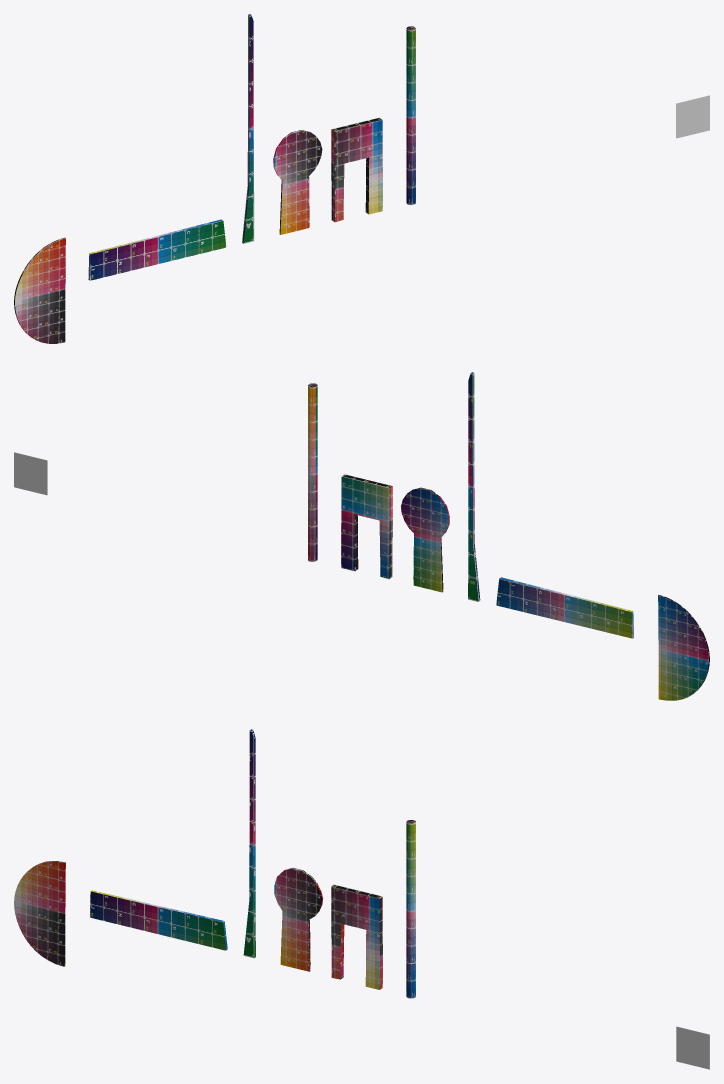
File: plstmichel.glb
The picture shows the model from 3 angles, top to bottom: view 1: azimuth 30°, elevation 25°; view 2: azimuth 150°, elevation 25°; view 3: azimuth 330°, elevation 25°; orthographic projection.
Parts seen in each view (by area): view 1: halfcircle, rechthoek, poortje, sleutelgat, paal, paal2, plane; view 2: halfcircle, rechthoek, poortje, sleutelgat, paal, paal2, plane; view 3: halfcircle, rechthoek, poortje, sleutelgat, paal, paal2, plane.
Part boxes in pixels (left/top/right/bottom): halfcircle: left=14, top=237, right=65, bottom=343; rechthoek: left=88, top=219, right=226, bottom=280; poortje: left=331, top=117, right=382, bottom=222; sleutelgat: left=273, top=130, right=322, bottom=234; paal: left=406, top=26, right=415, bottom=205; paal2: left=242, top=14, right=254, bottom=243; plane: left=676, top=95, right=709, bottom=138; halfcircle: left=658, top=594, right=709, bottom=700; rechthoek: left=496, top=577, right=633, bottom=638; poortje: left=341, top=474, right=392, bottom=579; sleutelgat: left=400, top=487, right=449, bottom=592; paal: left=308, top=383, right=317, bottom=561; paal2: left=468, top=372, right=480, bottom=601; plane: left=14, top=452, right=47, bottom=495; halfcircle: left=14, top=861, right=65, bottom=966; rechthoek: left=90, top=890, right=227, bottom=950; poortje: left=331, top=884, right=382, bottom=989; sleutelgat: left=274, top=868, right=323, bottom=971; paal: left=406, top=820, right=415, bottom=998; paal2: left=243, top=729, right=255, bottom=958; plane: left=676, top=1026, right=709, bottom=1069.
Size of the model in its own units: 41.66 by 16.1 by 0.5041.
Materials: 6 (6 with a texture image).
